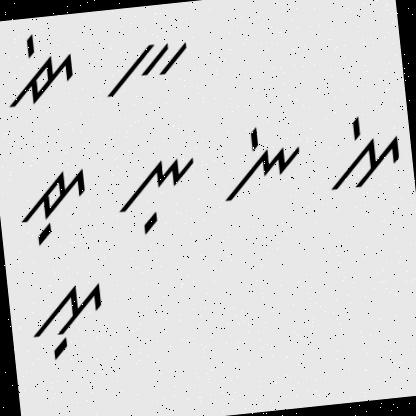je: (0, 27, 78, 113)
ju: (9, 157, 96, 250)
nye: (211, 113, 309, 206)
nyu: (111, 145, 204, 236)
se: (316, 106, 406, 196)
su: (23, 270, 111, 368)
